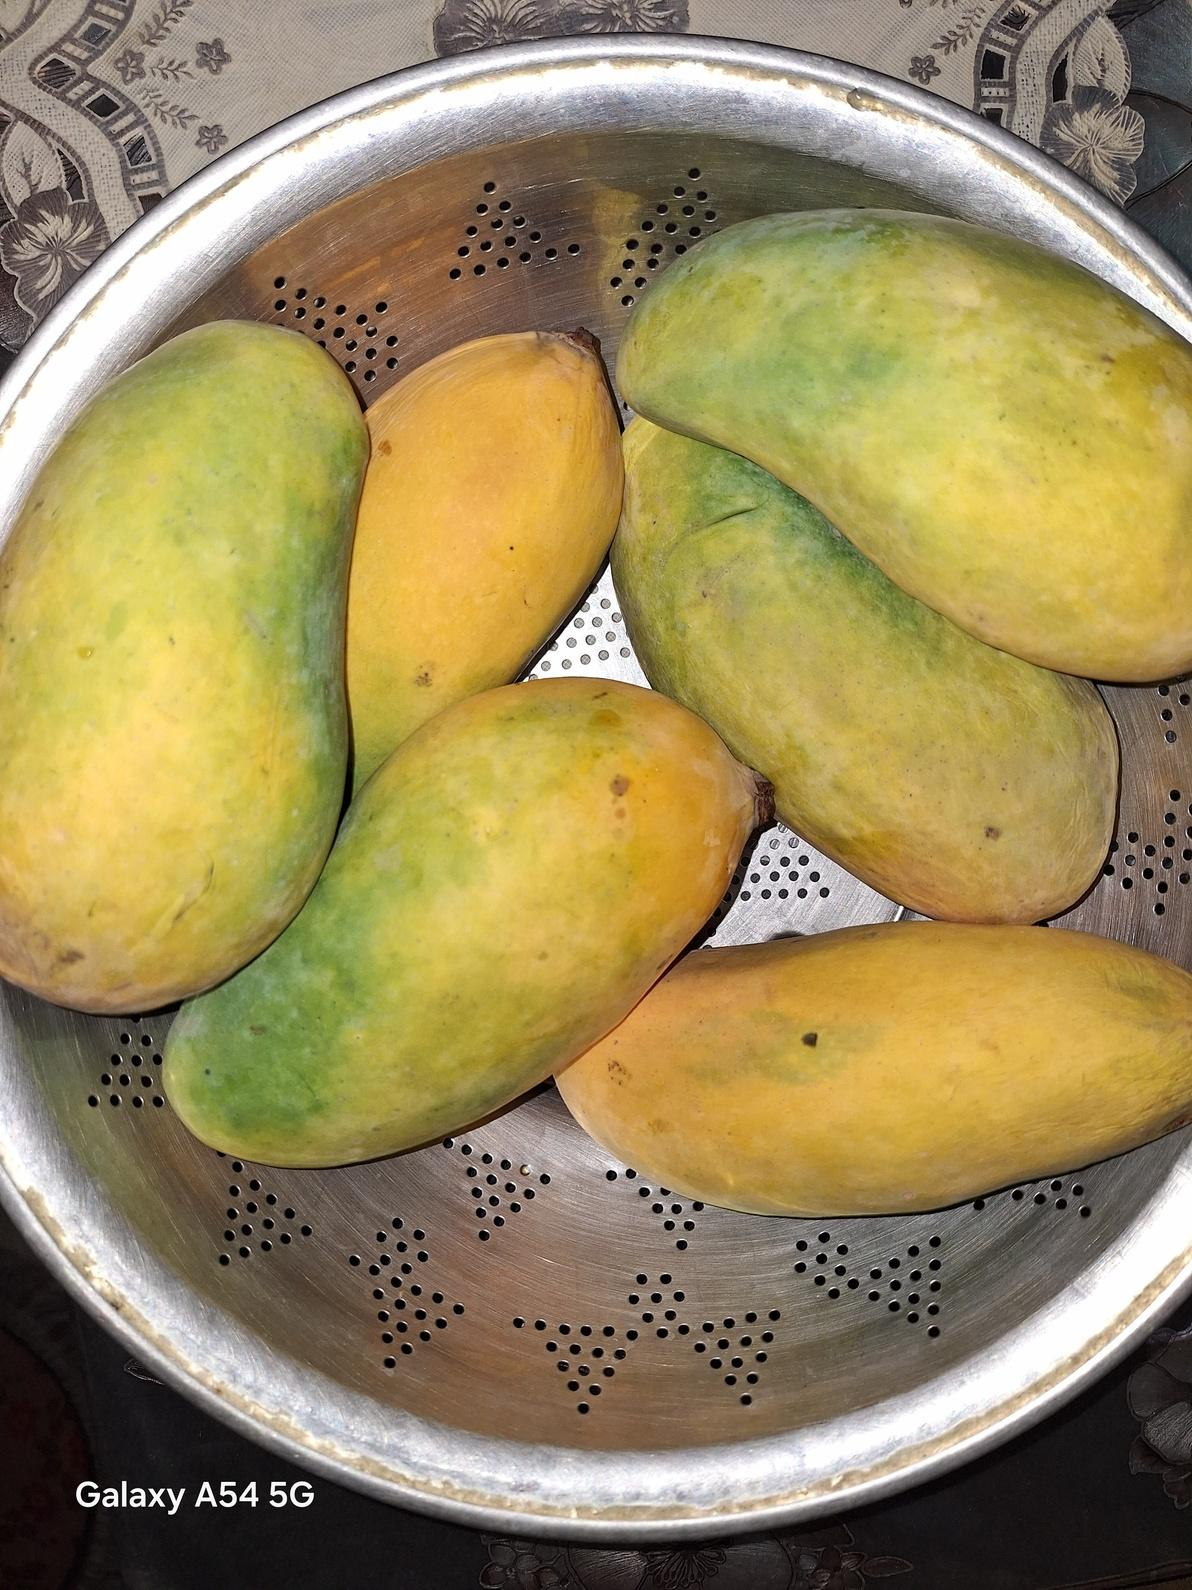mango: (159, 674, 775, 1171), (614, 207, 1191, 685), (609, 409, 1121, 925), (0, 315, 371, 1017), (552, 918, 1191, 1219), (344, 324, 624, 804)
